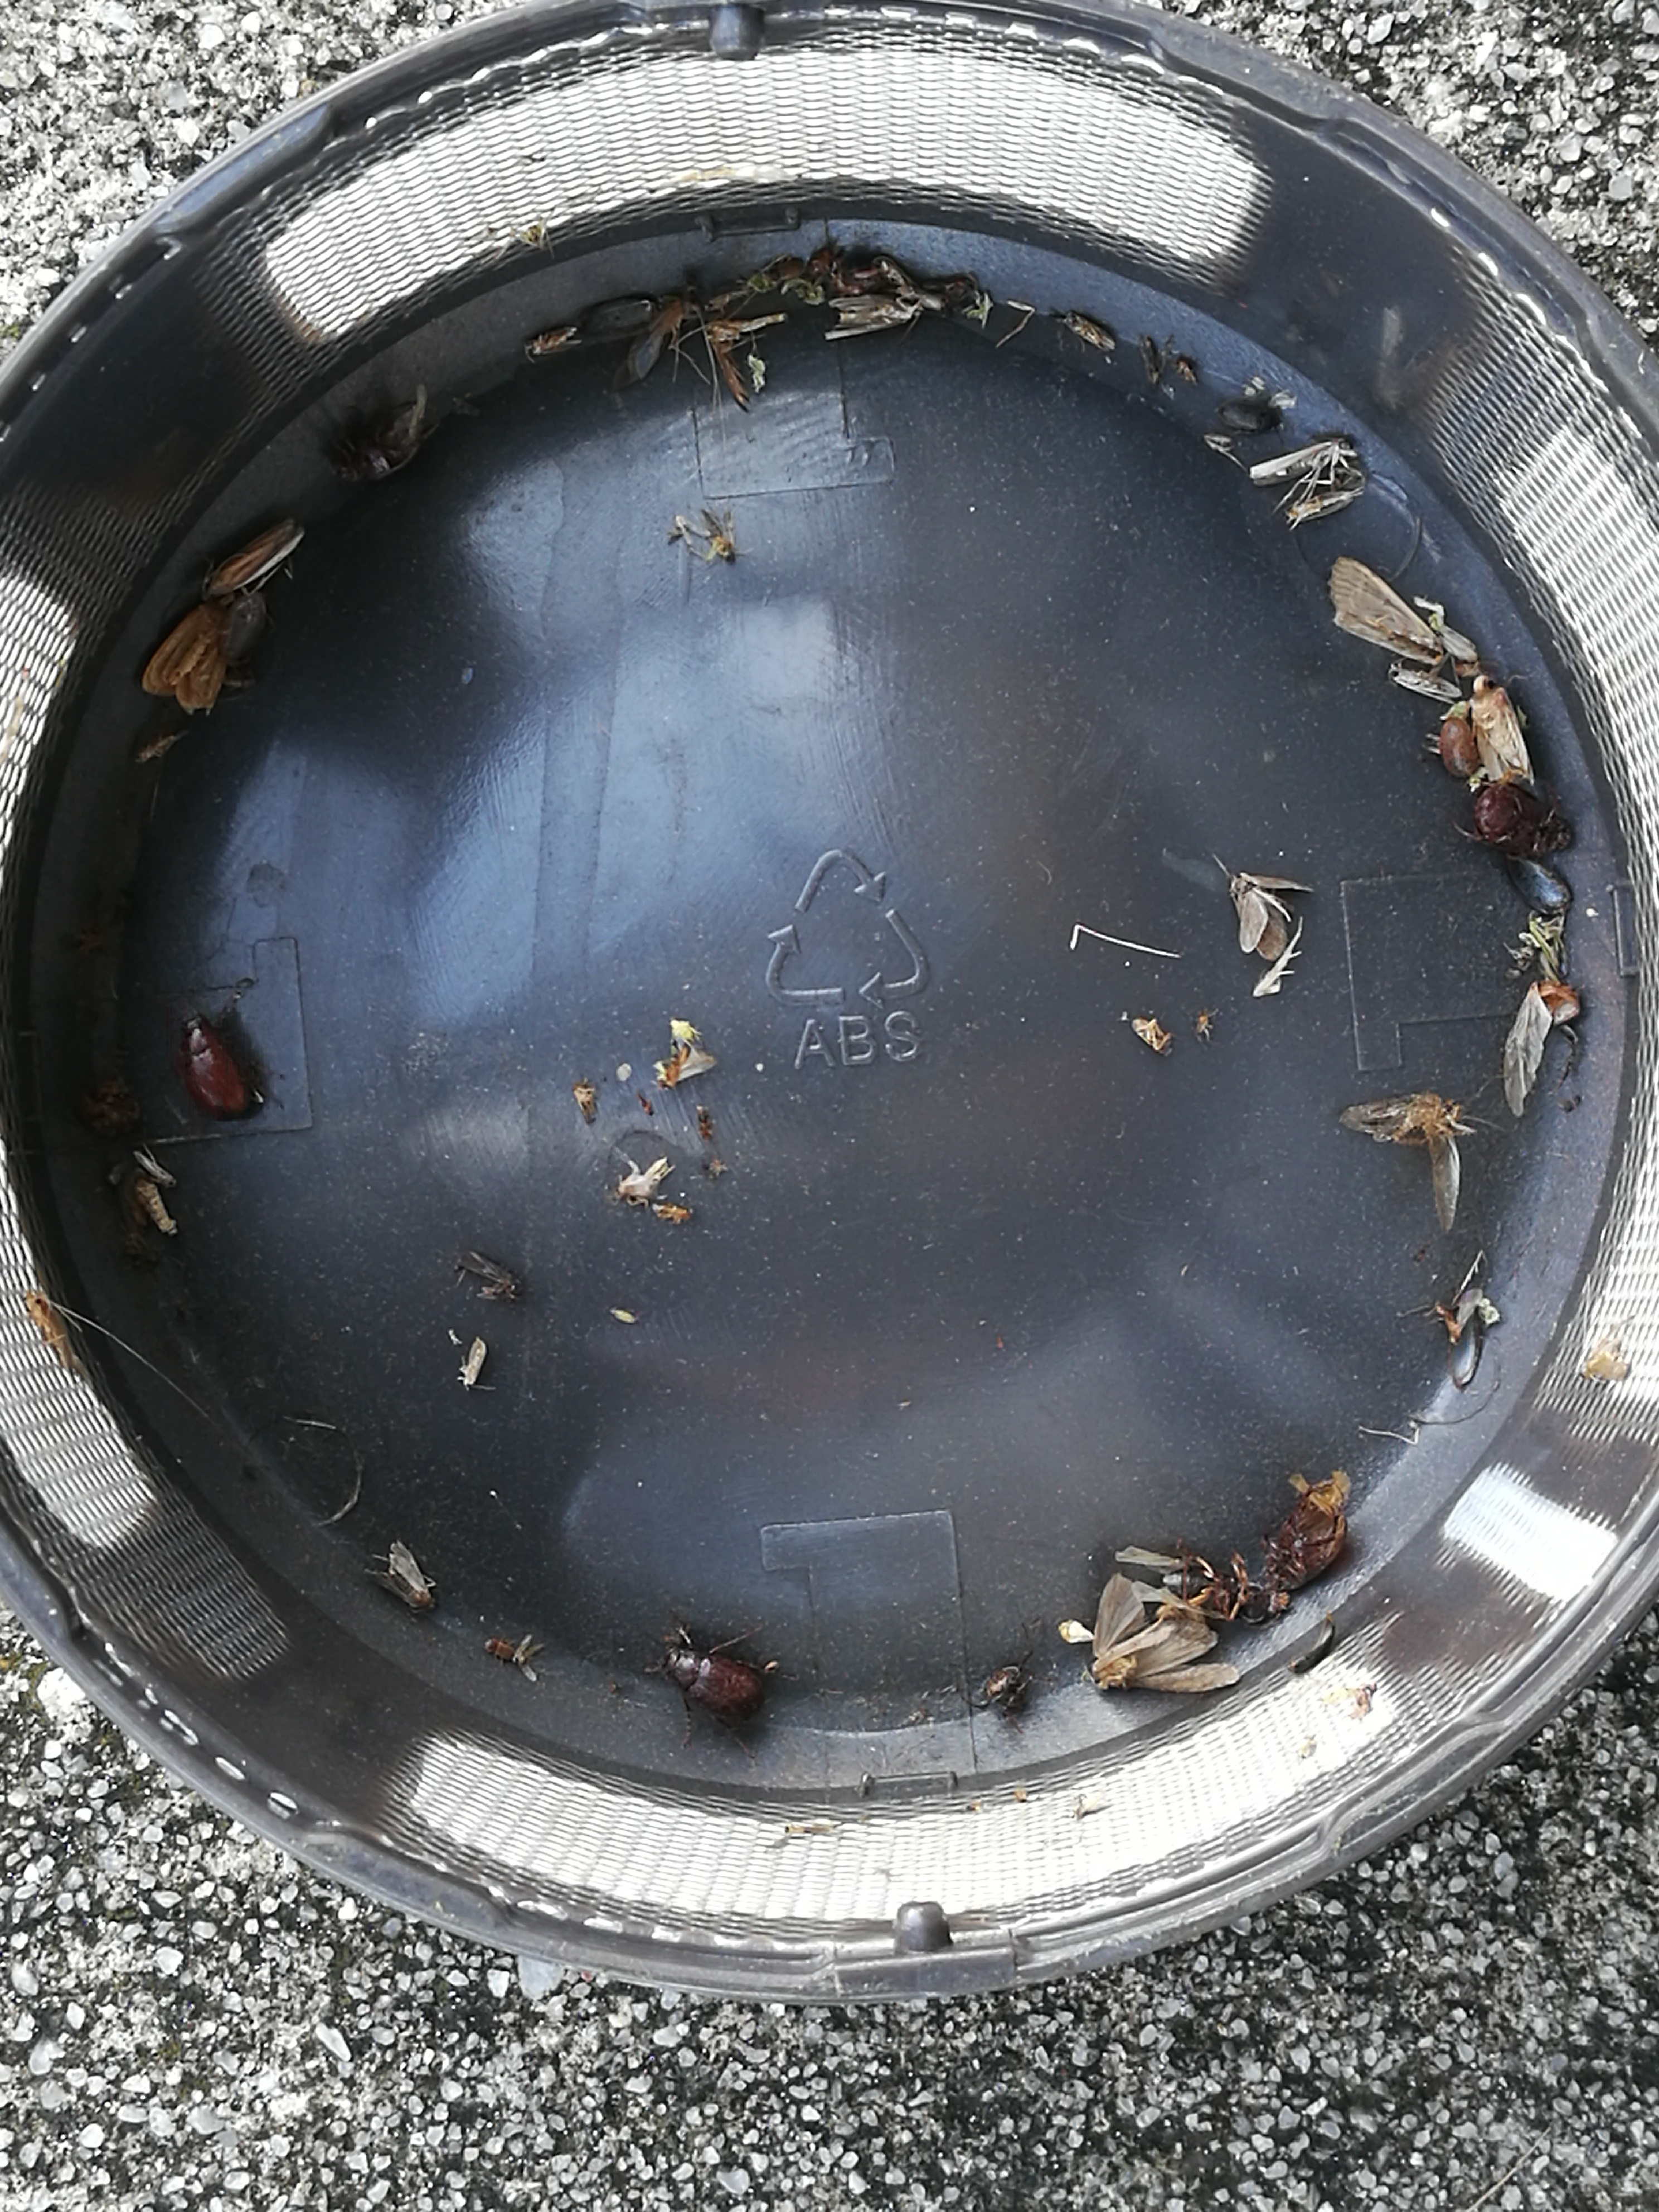beetle: (659, 1646, 763, 1723), (185, 1015, 249, 1120), (1478, 786, 1574, 853), (1265, 1510, 1345, 1590)
mosquito: (202, 519, 305, 597), (1251, 439, 1358, 484), (627, 296, 683, 378), (1389, 667, 1459, 702), (1063, 312, 1117, 350), (1284, 491, 1354, 521), (131, 1151, 178, 1186), (528, 327, 577, 354), (462, 1338, 486, 1385), (708, 291, 746, 312)
moth: (1093, 1575, 1237, 1689), (1342, 1092, 1459, 1230), (1328, 559, 1445, 665), (145, 603, 228, 707), (1227, 873, 1314, 960), (1471, 676, 1535, 786), (824, 293, 915, 341), (364, 1541, 432, 1606), (652, 1050, 716, 1089)
